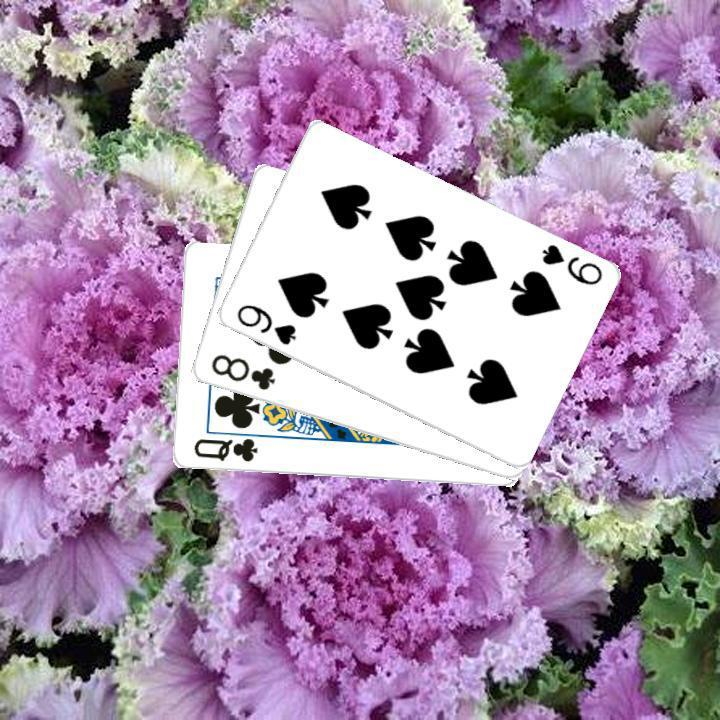8: (206, 350, 277, 393)
9: (536, 240, 604, 288), (232, 300, 298, 348)
Q: (189, 435, 259, 465)
